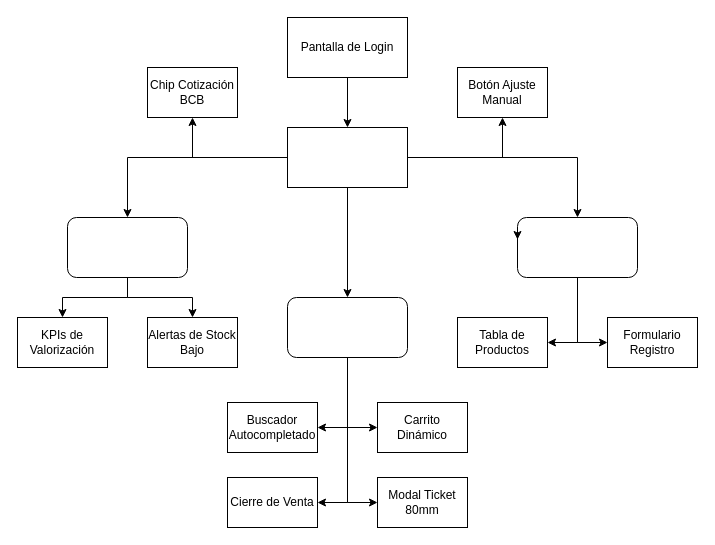
This 715x545 diagram has some shape labels left out. The box of each missing label's shape, as (x1, y1, x2, y2) in pixels:
Catálogo de Inventario: (516, 216, 638, 278)
Dashboard: (66, 216, 188, 278)
Punto de Venta (POS): (286, 296, 408, 358)
Shell (Layout Global): (286, 126, 408, 188)
